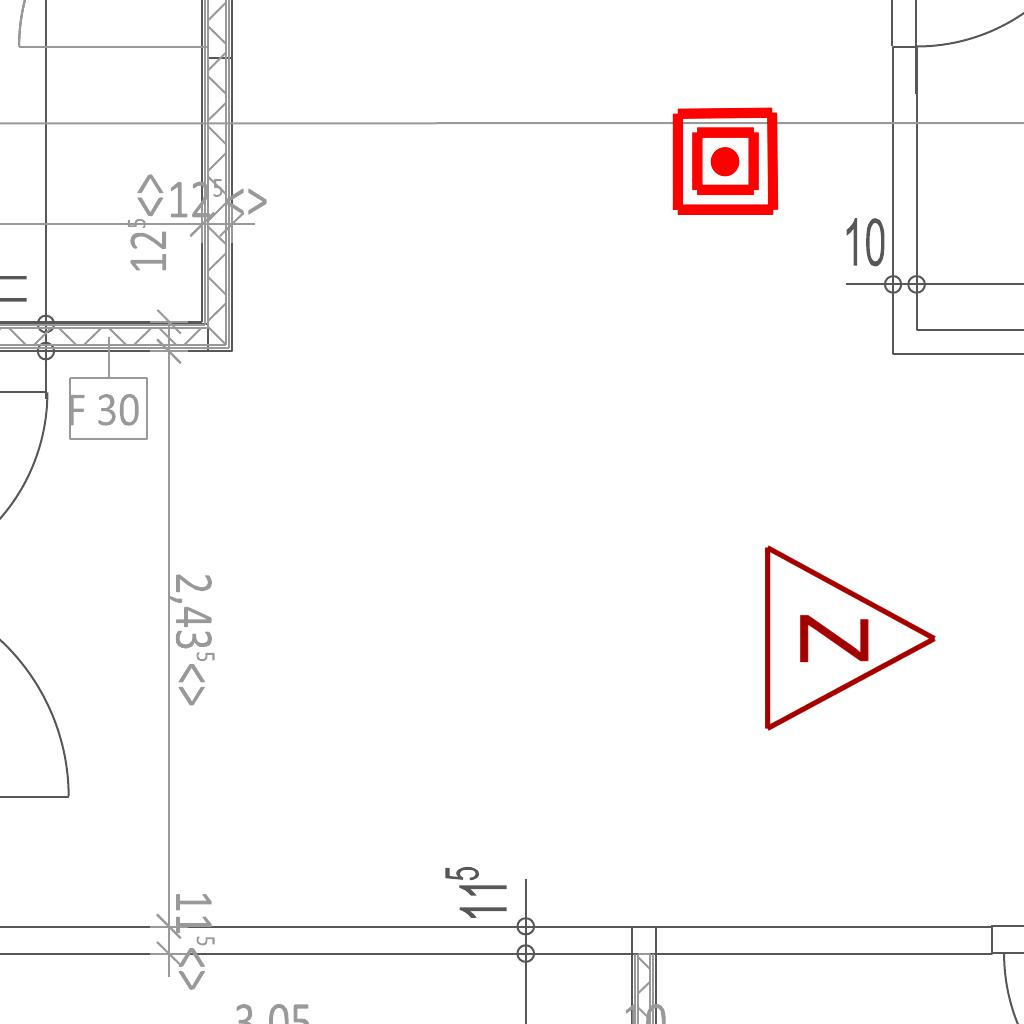NAM-Nichtautomatischer_Melder: (669, 105, 782, 218)
Zimmersignalleuchte: (750, 538, 950, 734)
